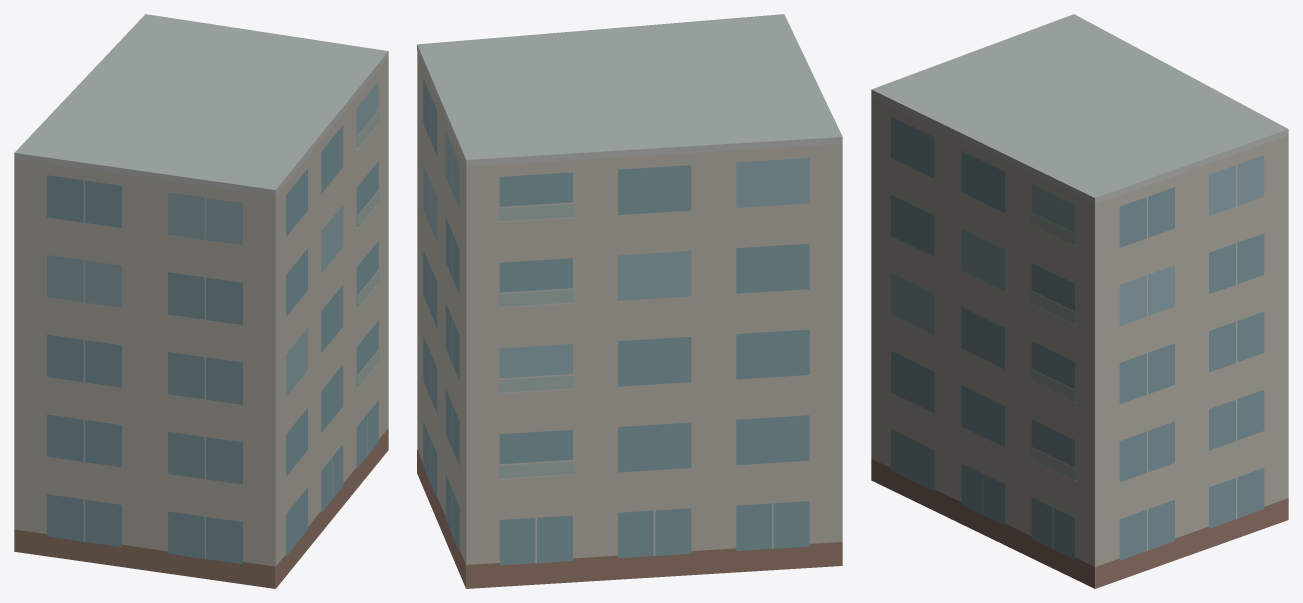
File: survey-upis-32579872.glb
3 renders of one model, left to right at view 1: azimuth 30°, elevation 25°; view 2: azimuth 150°, elevation 25°; view 3: azimuth 270°, elevation 25°, orthographic. The views are drawn at different scales.
Visible parts, largest first — view 1: survey-upis-32579872.tmp; view 2: survey-upis-32579872.tmp; view 3: survey-upis-32579872.tmp.
Boxes of the visible parts, bbox=[...] form: survey-upis-32579872.tmp: bbox=[14, 14, 388, 588]; survey-upis-32579872.tmp: bbox=[417, 14, 842, 588]; survey-upis-32579872.tmp: bbox=[871, 14, 1288, 588].
Size of the model in its own units: 15.41 by 15.25 by 14.77.
